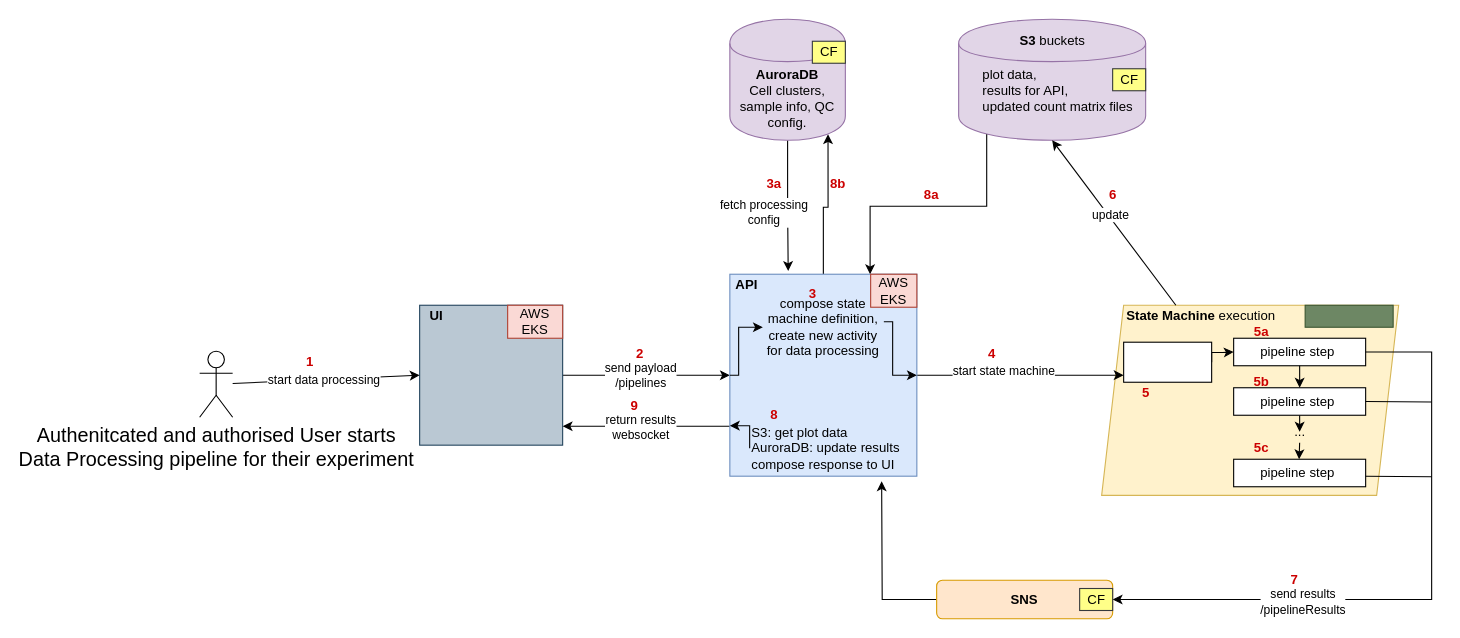
Image size: 1460x638. Some labels were removed from this diagram. The shapes that lost their labels are listed below. From the top down, each one's centre as x and y in pixels, then its label:
At (x=1348, y=315): "API-created".
At (x=1167, y=361): "init()".
